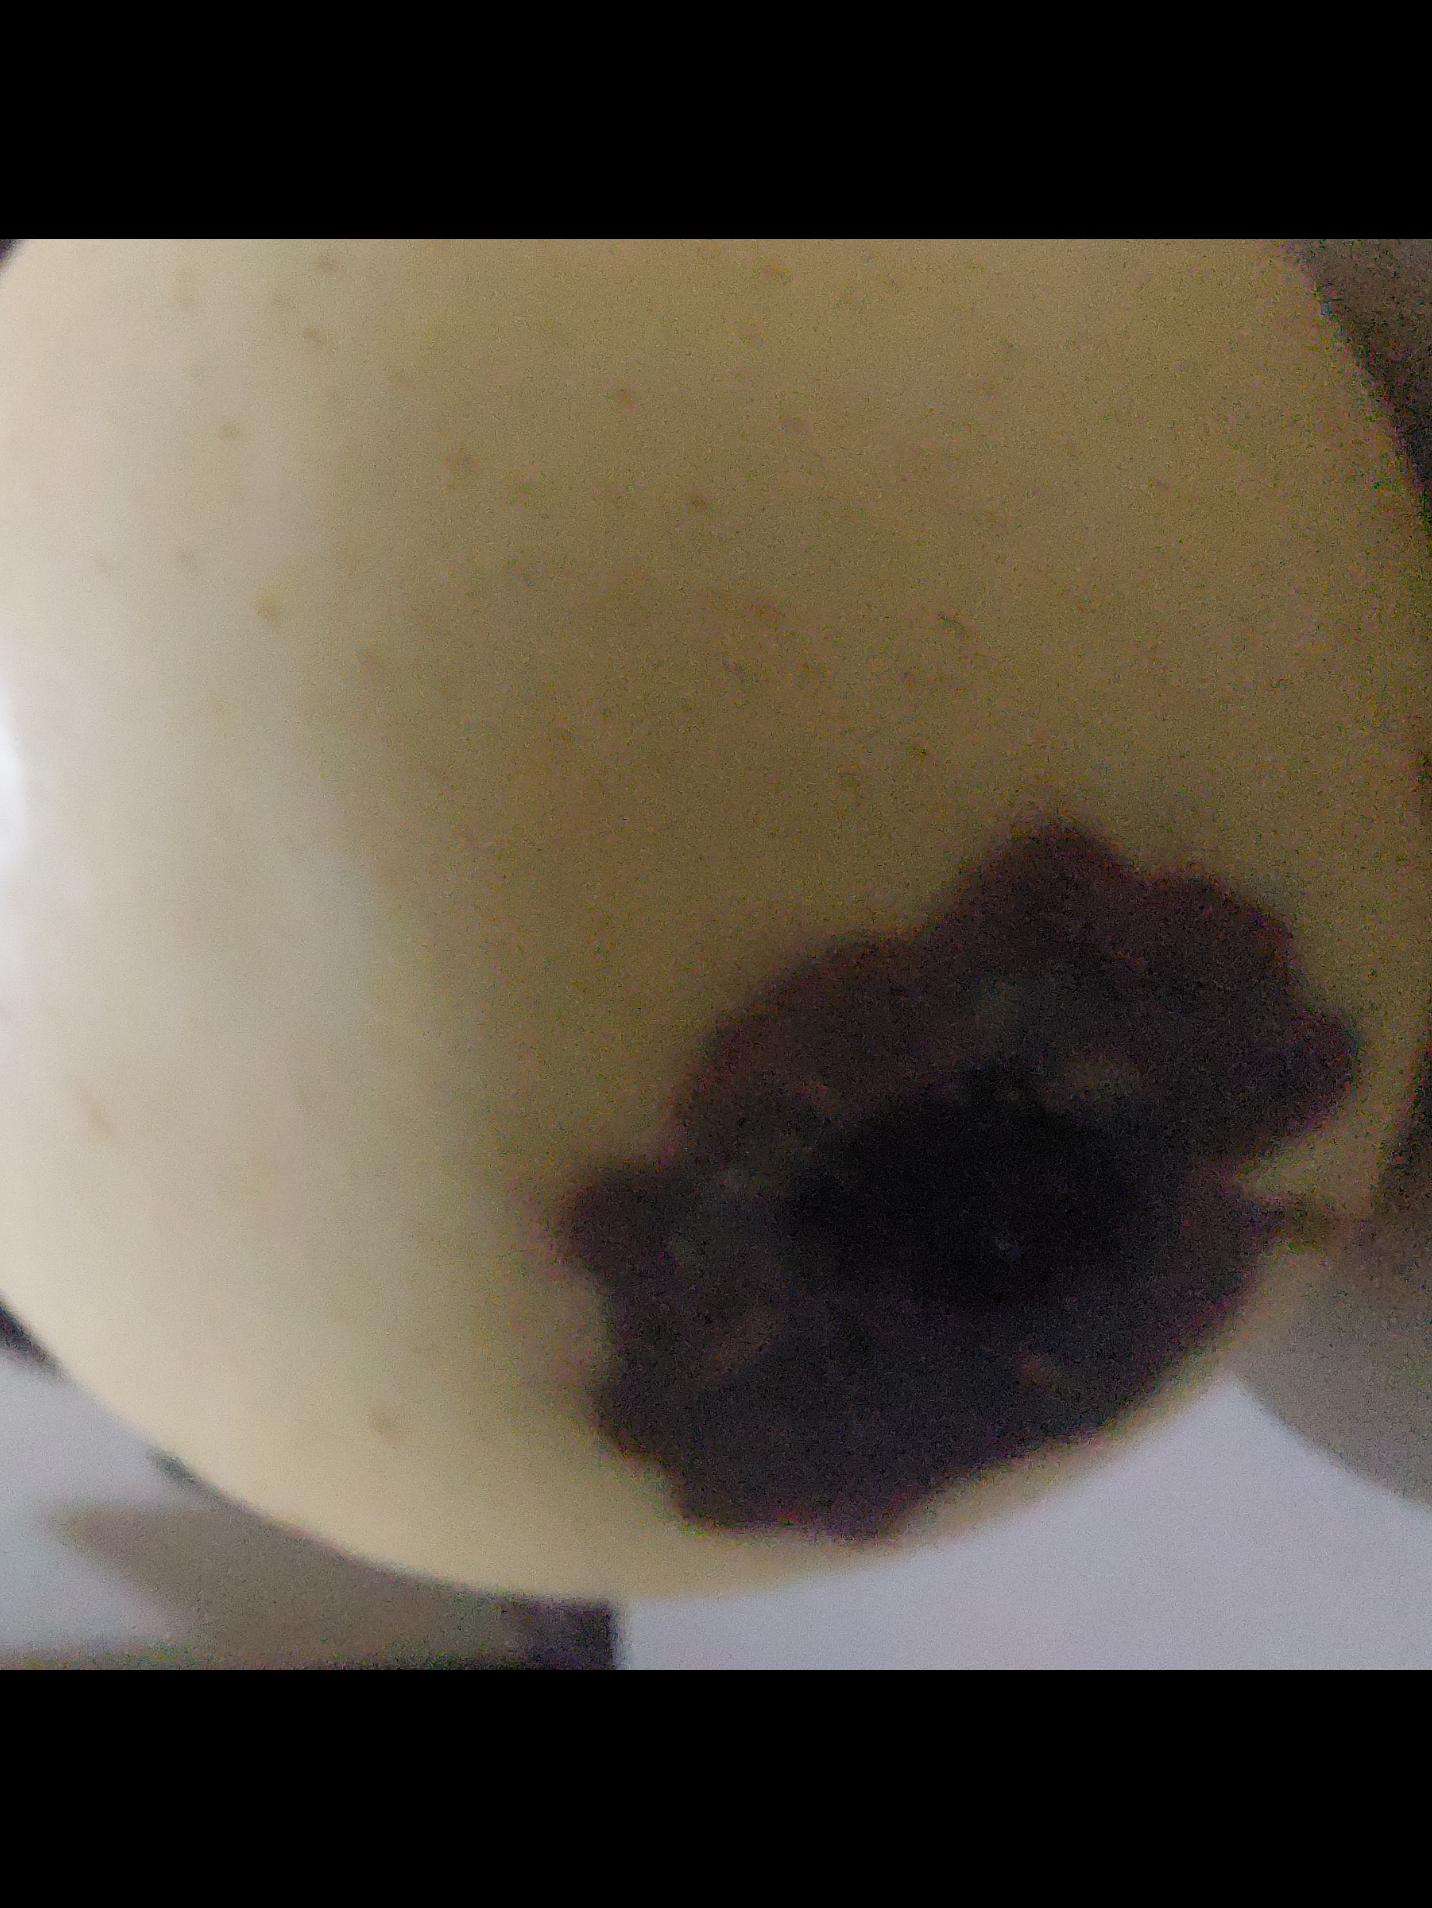Bad Pear: (0, 238, 1432, 1631), (0, 238, 1432, 1600)
